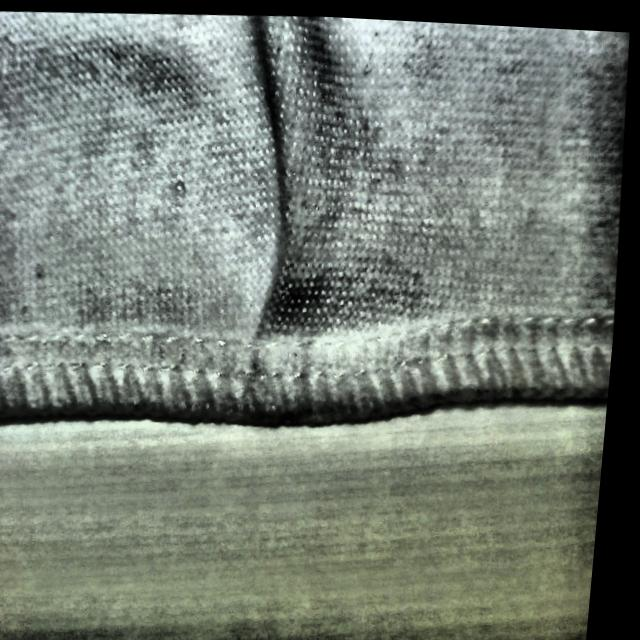seam: (205, 123, 372, 428)
